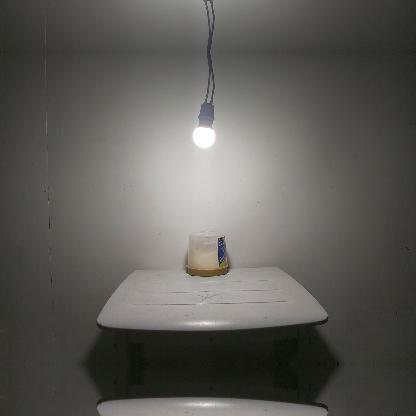Lady-s-Choice: (186, 230, 228, 276)
